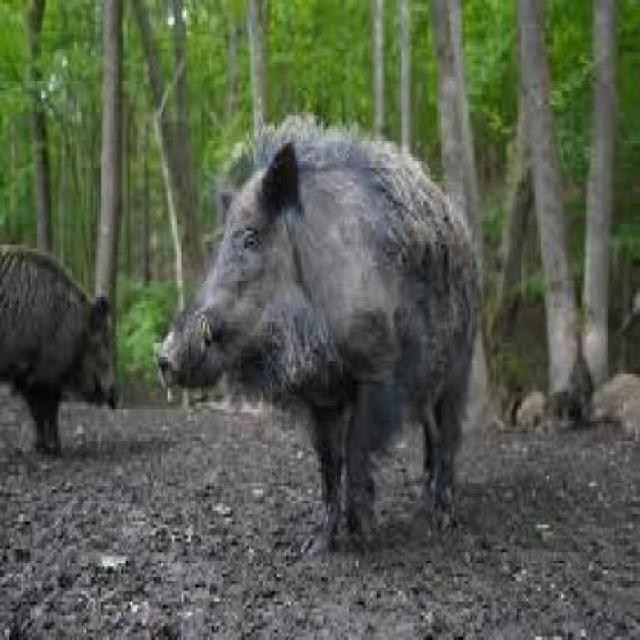wildboar: (150, 109, 498, 553), (0, 236, 123, 467)
